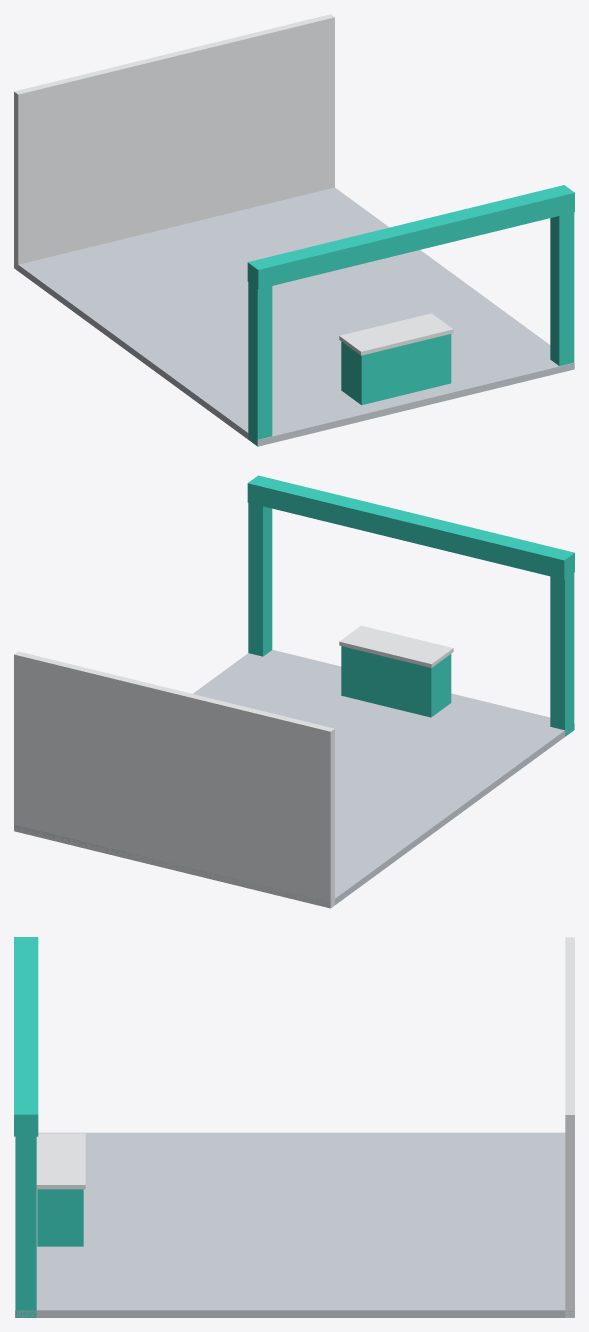
3 views of the same model, one above another, from view 1: azimuth 30°, elevation 25°; view 2: azimuth 150°, elevation 25°; view 3: azimuth 270°, elevation 25° (orthographic). The views are drawn at different scales.
Visible parts, largest first — view 1: Exhibition Booth Concept; view 2: Exhibition Booth Concept; view 3: Exhibition Booth Concept.
Part boxes in pixels (x1,y1,x2,y2): Exhibition Booth Concept: (14,14,574,446); Exhibition Booth Concept: (14,475,574,908); Exhibition Booth Concept: (14,937,574,1317).
Bounding box in the file's own units: 6 × 3.2 × 8.01.
